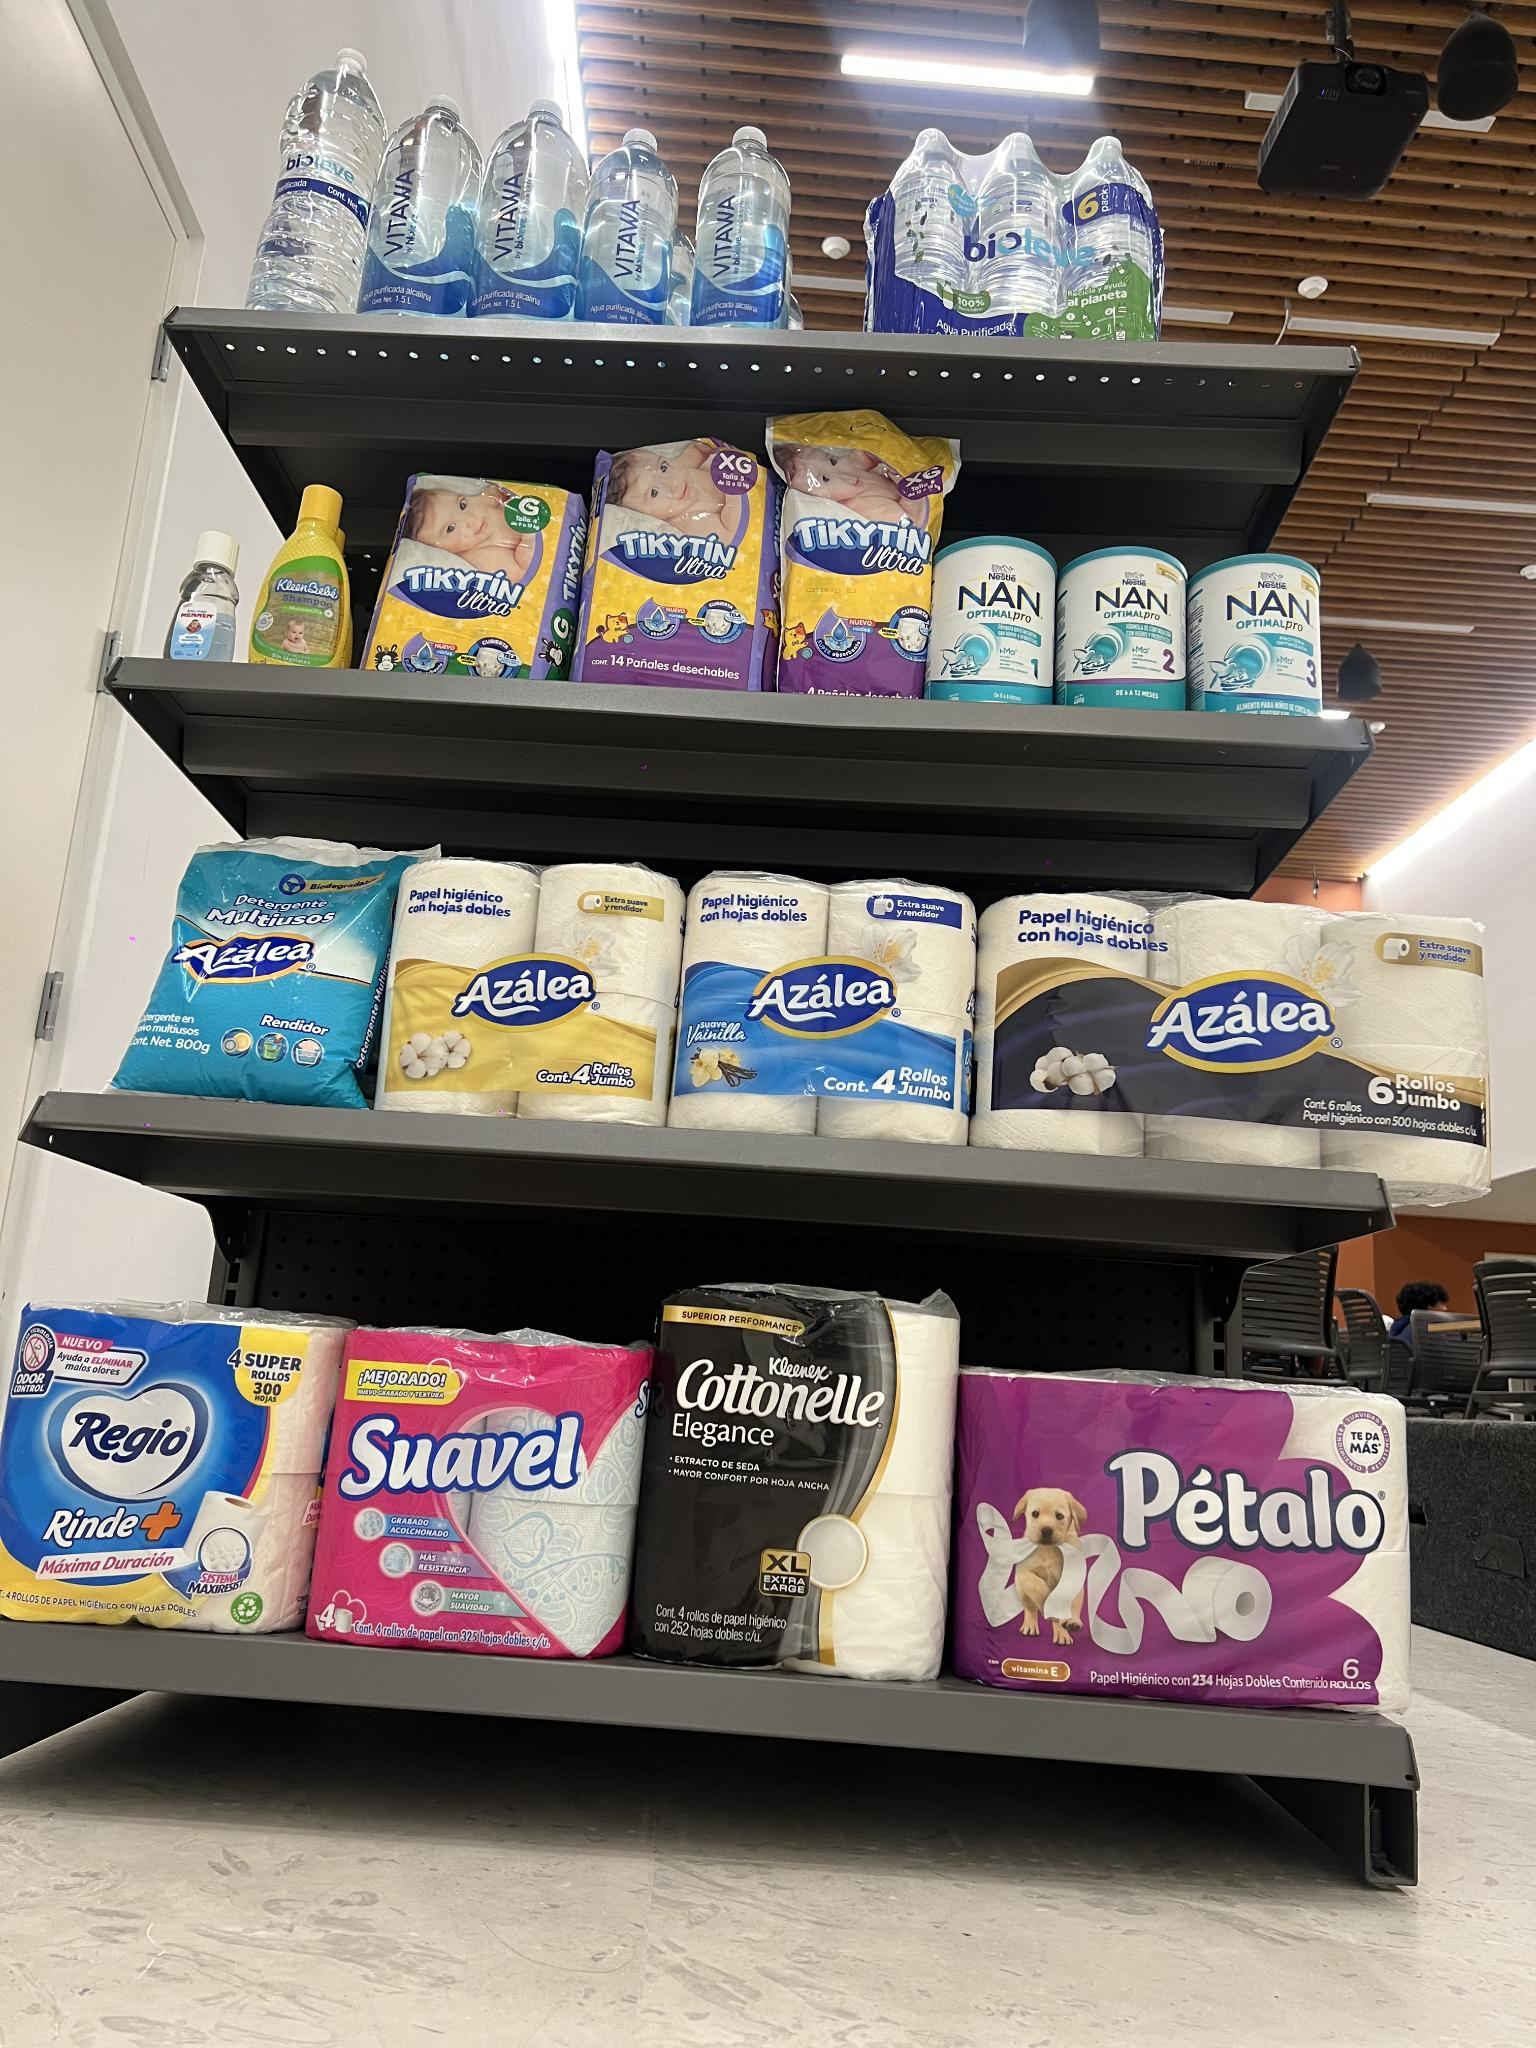aceite_bebe_mennen: (157, 526, 239, 656)
agua_bioleve: (234, 35, 373, 321)
agua_bioleve_6pack: (879, 123, 1163, 334)
agua_vitawa_1L: (691, 119, 792, 323), (584, 127, 676, 316)
agua_vitawa_1_5L: (378, 94, 471, 316), (481, 98, 573, 318)
detergente_azaela: (110, 835, 384, 1100)
nan_nestle_1: (916, 537, 1062, 705)
nan_nestle_2: (1058, 545, 1192, 718)
nan_nestle_3: (1184, 545, 1331, 714)
panales_tikytin_extragrande: (757, 402, 936, 695), (578, 434, 770, 684)
panales_tikytin_grande: (371, 466, 573, 679)
papelhigenico_azaela_6rollos: (979, 892, 1492, 1182)
papelhigenico_azaela_amarillo: (395, 856, 666, 1127)
papelhigenico_azaela_azul: (682, 856, 962, 1158)
papelhigenico_kleenex_cottonelle: (641, 1274, 950, 1700)
papelhigenico_petalo: (957, 1363, 1418, 1717)
papelhigenico_regio: (3, 1303, 310, 1638)
papelhigenico_suavel: (313, 1309, 641, 1663)
shampoo_bebe: (252, 476, 350, 666)
